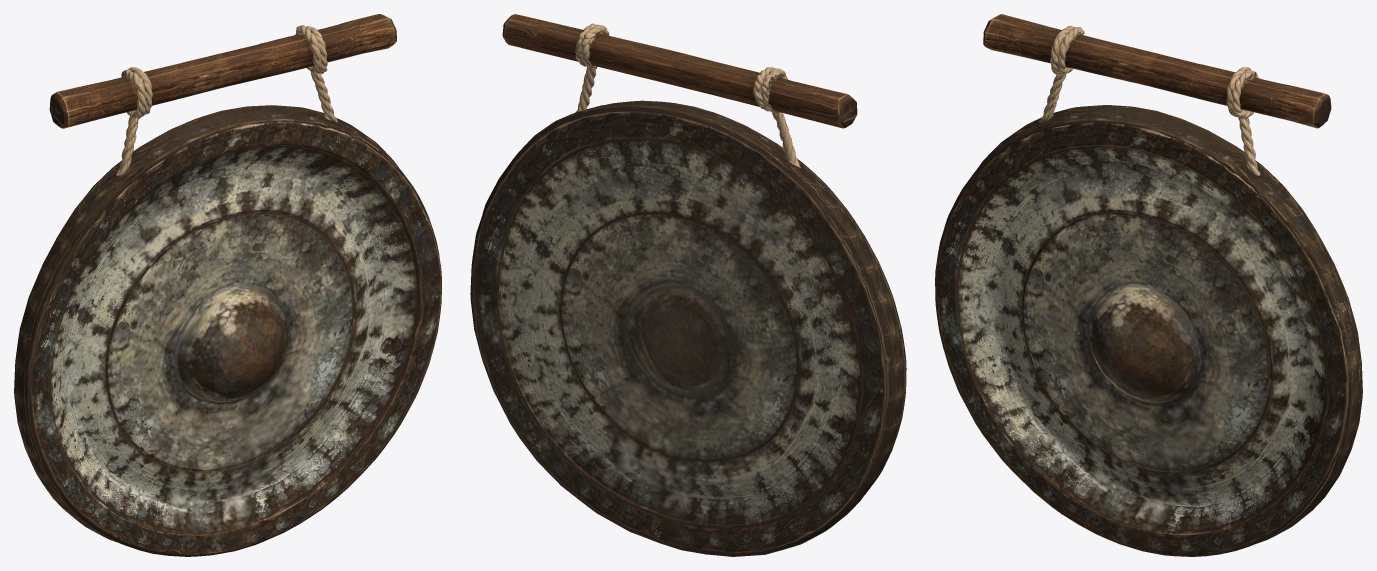
Rendered from cong-chieng.glb.
3 views of the same model, side by side, from view 1: azimuth 30°, elevation 25°; view 2: azimuth 150°, elevation 25°; view 3: azimuth 330°, elevation 25° (orthographic).
Bounding box in the file's own units: 0.8849 × 0.9996 × 0.1386.
Materials: 1 (1 with a texture image).
